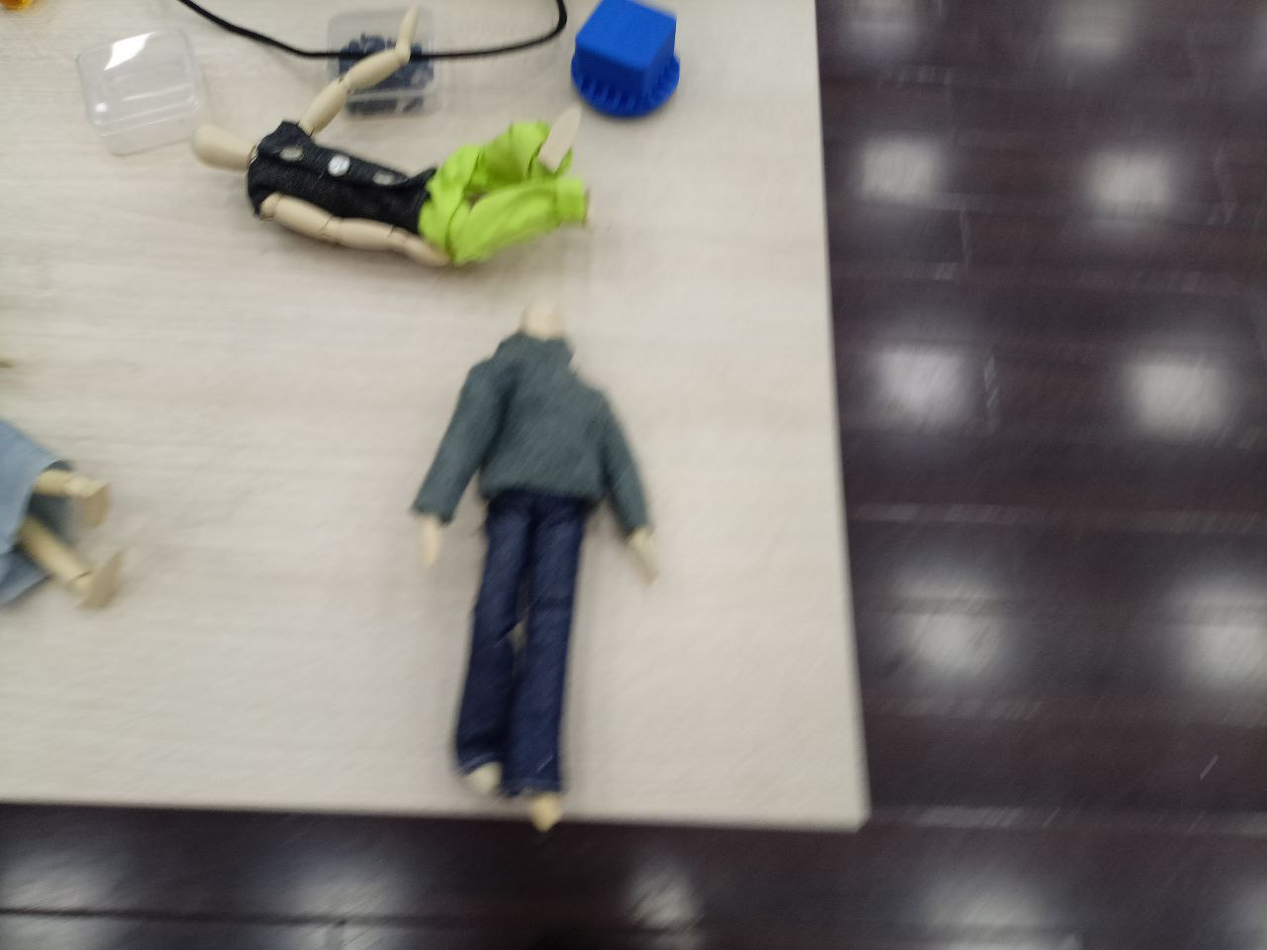Road works: (377, 279, 664, 813), (167, 11, 631, 282)
